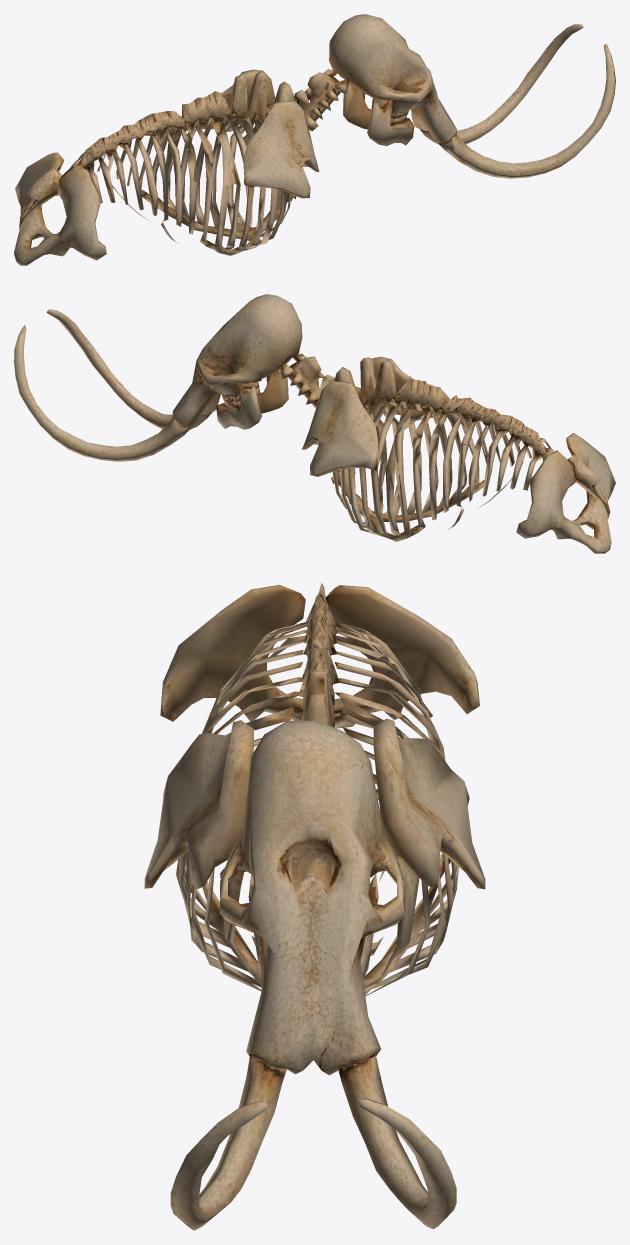
File: tripo_convert_897669a7-1eca-451e-9e25-4a05dbfd21e2.fbx
3 views of the same model, one above another, from view 1: azimuth 30°, elevation 25°; view 2: azimuth 150°, elevation 25°; view 3: azimuth 270°, elevation 25° (orthographic). The views are drawn at different scales.
Parts seen in each view (by area): view 1: tripo_part_4, tripo_part_6, tripo_part_9, tripo_part_16, tripo_part_1, tripo_part_0, tripo_part_11, tripo_part_7, tripo_part_10, tripo_part_12, tripo_part_34, tripo_part_13 (+3 smaller); view 2: tripo_part_4, tripo_part_6, tripo_part_9, tripo_part_0, tripo_part_12, tripo_part_10, tripo_part_1, tripo_part_7, tripo_part_11, tripo_part_33, tripo_part_16, tripo_part_38 (+3 smaller); view 3: tripo_part_4, tripo_part_9, tripo_part_12, tripo_part_16, tripo_part_10, tripo_part_11, tripo_part_0, tripo_part_1, tripo_part_6, tripo_part_32, tripo_part_33.
Boxes of the visible parts, bbox=[...] form: tripo_part_4: bbox=[329, 14, 457, 143]; tripo_part_6: bbox=[19, 70, 340, 232]; tripo_part_9: bbox=[14, 152, 106, 265]; tripo_part_16: bbox=[244, 101, 319, 198]; tripo_part_1: bbox=[195, 119, 291, 255]; tripo_part_0: bbox=[139, 114, 258, 240]; tripo_part_11: bbox=[445, 44, 615, 178]; tripo_part_7: bbox=[343, 80, 414, 146]; tripo_part_10: bbox=[420, 24, 583, 144]; tripo_part_12: bbox=[184, 69, 275, 131]; tripo_part_34: bbox=[179, 129, 197, 234]; tripo_part_13: bbox=[165, 132, 181, 226]; tripo_part_4: bbox=[172, 294, 302, 427]; tripo_part_6: bbox=[288, 356, 610, 518]; tripo_part_9: bbox=[516, 433, 615, 553]; tripo_part_0: bbox=[340, 404, 432, 541]; tripo_part_12: bbox=[301, 380, 377, 476]; tripo_part_10: bbox=[14, 325, 191, 461]; tripo_part_1: bbox=[363, 399, 492, 522]; tripo_part_7: bbox=[216, 364, 288, 429]; tripo_part_11: bbox=[46, 309, 206, 430]; tripo_part_33: bbox=[428, 415, 447, 520]; tripo_part_16: bbox=[366, 356, 449, 420]; tripo_part_38: bbox=[443, 417, 462, 512]; tripo_part_4: bbox=[220, 720, 404, 1075]; tripo_part_9: bbox=[160, 584, 479, 728]; tripo_part_12: bbox=[373, 718, 485, 889]; tripo_part_16: bbox=[144, 720, 253, 889]; tripo_part_10: bbox=[338, 1053, 456, 1229]; tripo_part_11: bbox=[170, 1055, 286, 1230]; tripo_part_0: bbox=[335, 692, 459, 996]; tripo_part_1: bbox=[176, 691, 299, 991]; tripo_part_6: bbox=[298, 582, 339, 727]; tripo_part_32: bbox=[364, 858, 419, 988]; tripo_part_33: bbox=[338, 678, 445, 760].
Bounding box in the file's own units: 1 × 0.3268 × 0.2564.
Materials: 1 (1 with a texture image).
